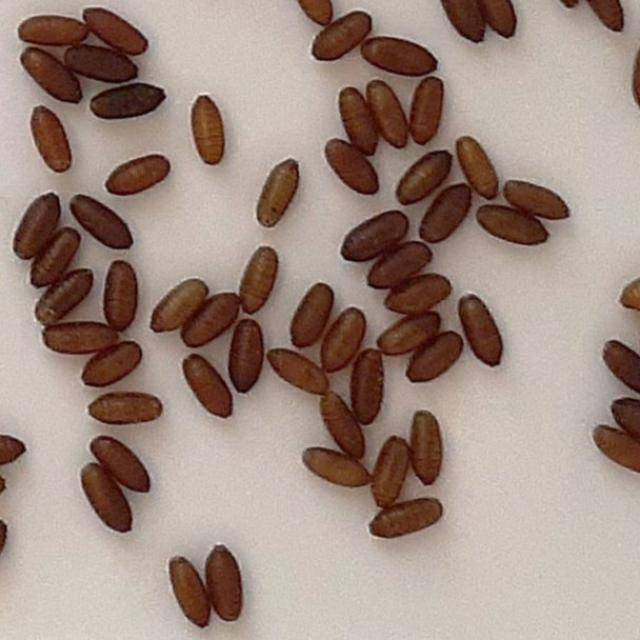flypupae: (70, 457, 135, 546), (85, 434, 160, 509), (331, 202, 416, 266), (60, 190, 144, 254), (350, 29, 450, 81), (312, 301, 378, 377), (393, 137, 460, 211), (26, 259, 100, 325), (158, 544, 216, 628), (250, 154, 312, 231), (76, 3, 158, 59), (454, 294, 516, 368), (414, 174, 477, 246), (360, 234, 436, 293), (314, 382, 370, 462), (13, 46, 82, 110), (84, 389, 174, 438), (361, 305, 444, 358), (278, 278, 341, 347), (294, 437, 370, 494), (330, 85, 386, 162), (174, 350, 234, 421), (316, 138, 383, 200), (26, 225, 88, 291), (364, 500, 451, 547), (198, 539, 245, 625), (39, 323, 125, 370), (260, 344, 334, 398), (301, 8, 371, 65), (27, 101, 75, 184), (185, 283, 242, 352), (61, 41, 144, 87), (474, 200, 553, 248), (12, 190, 66, 260), (11, 5, 95, 50), (360, 76, 410, 150), (79, 80, 169, 121), (146, 275, 206, 336), (187, 87, 231, 169), (369, 432, 418, 505), (222, 311, 264, 396), (404, 72, 452, 146), (233, 241, 277, 321), (79, 337, 148, 388), (103, 151, 176, 198), (407, 406, 448, 489), (346, 348, 388, 426), (96, 256, 141, 328), (453, 136, 502, 200), (387, 271, 453, 318), (501, 178, 573, 221), (411, 332, 460, 386)
